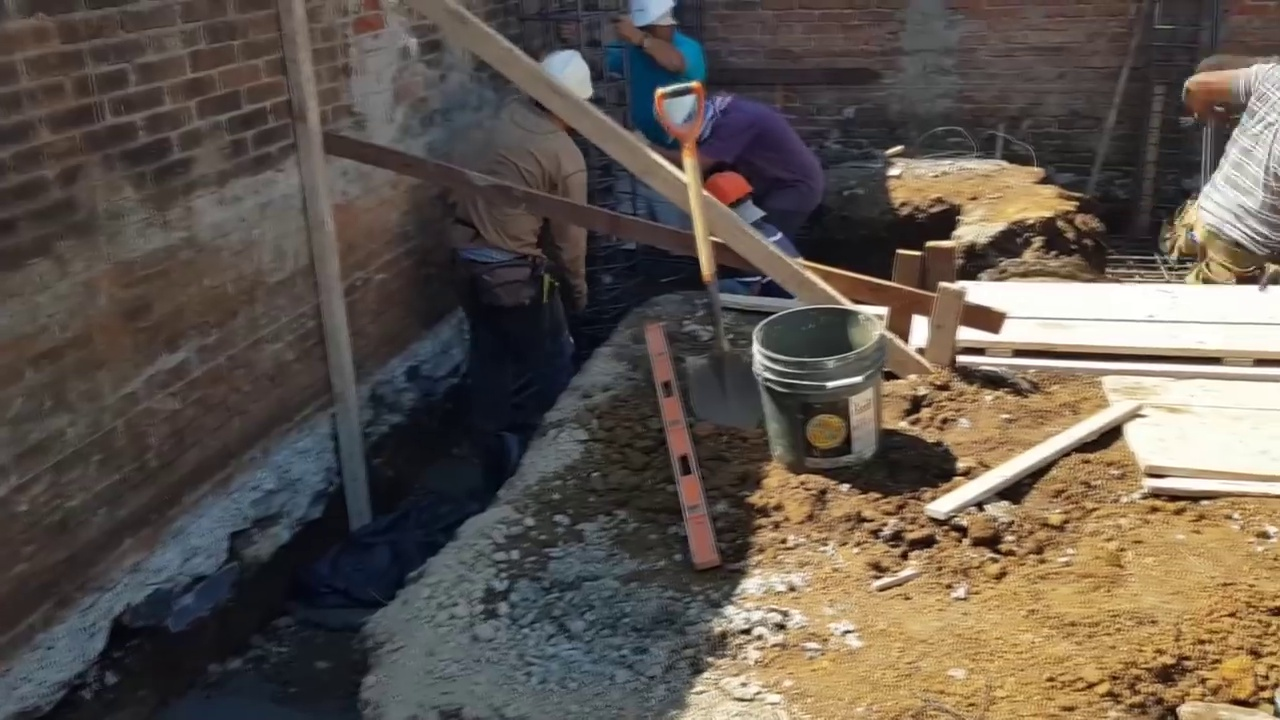helmet: (537, 42, 596, 100), (653, 89, 697, 140), (704, 170, 751, 209)
helmet-off: (623, 3, 688, 50)
helmet-on: (517, 45, 597, 126), (655, 79, 723, 140), (705, 170, 764, 227)
person: (438, 47, 596, 401), (596, 1, 705, 244), (655, 76, 825, 224), (1170, 54, 1277, 283), (706, 167, 806, 302)
